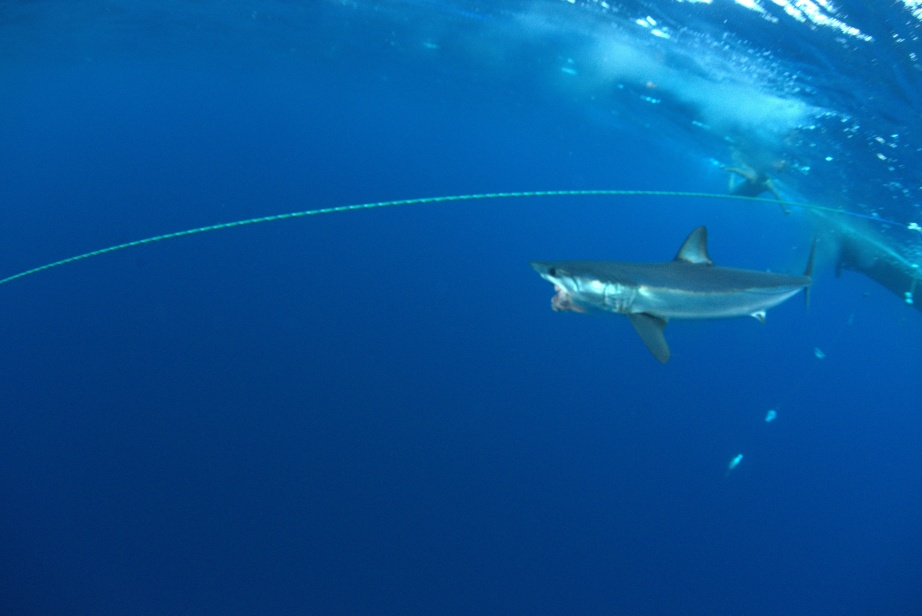Mako: (496, 218, 834, 369)
